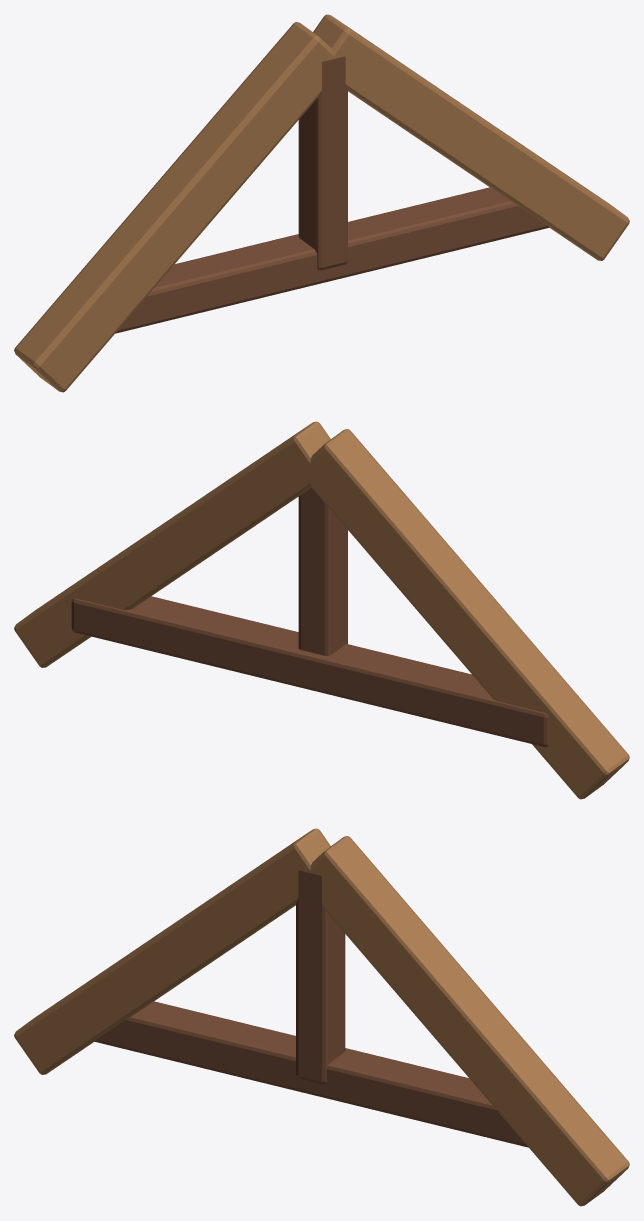
The model's file is gable_end_2m__structure.glb.
The picture shows the model from 3 angles, top to bottom: view 1: azimuth 30°, elevation 25°; view 2: azimuth 150°, elevation 25°; view 3: azimuth 330°, elevation 25°; orthographic projection.
Visible parts, largest first — view 1: gable_end_2m__structure__mesh_00; view 2: gable_end_2m__structure__mesh_00; view 3: gable_end_2m__structure__mesh_00.
Boxes of the visible parts, <box> form: gable_end_2m__structure__mesh_00: <box>14,14,629,392</box>; gable_end_2m__structure__mesh_00: <box>14,421,629,799</box>; gable_end_2m__structure__mesh_00: <box>14,828,629,1206</box>.
Size of the model in its own units: 2.62 by 1.24 by 0.19.
